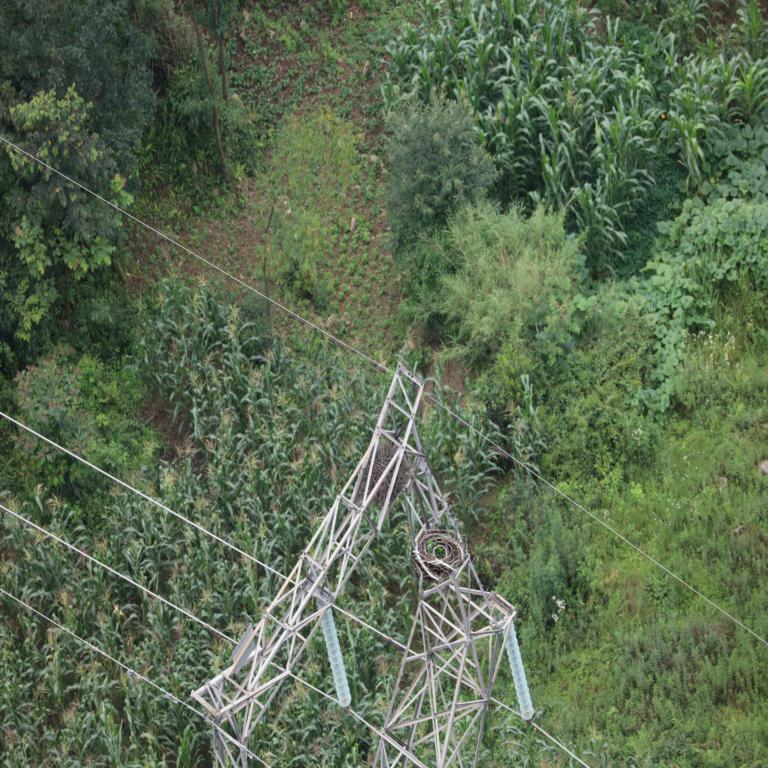nest: (366, 445, 410, 507), (413, 529, 465, 576)
